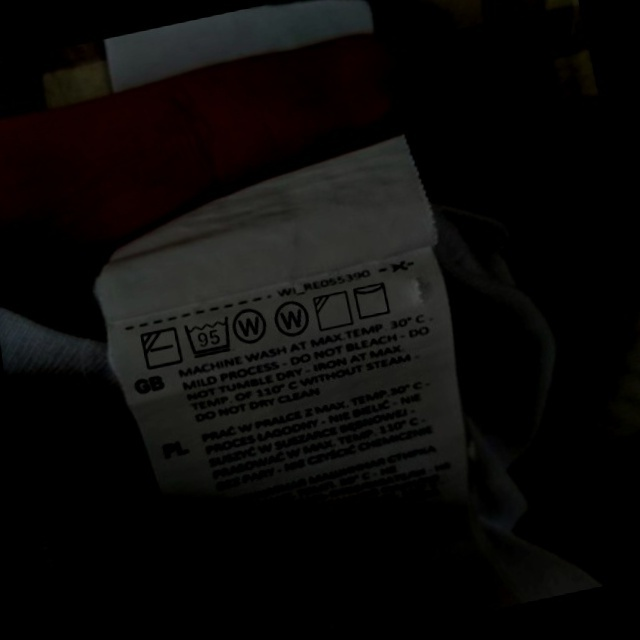95C: (181, 312, 237, 361)
dry_flat_in_shade: (137, 323, 185, 373)
line_dry: (349, 276, 396, 323)
shade_dry: (310, 287, 356, 334)
wet_clean: (229, 301, 273, 348), (270, 296, 314, 343)
